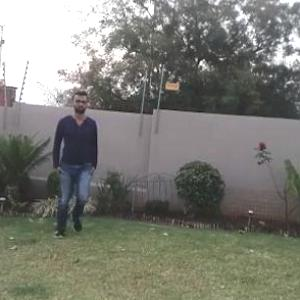follow: (53, 90, 100, 231)
